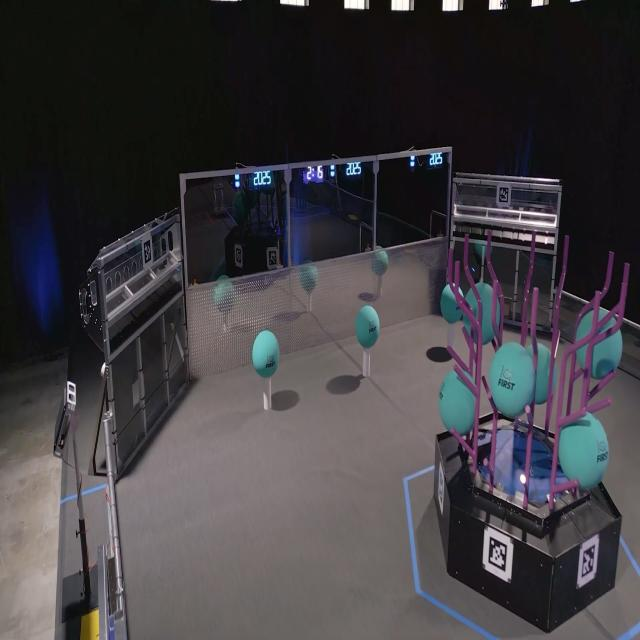Algae: (558, 410, 609, 490), (490, 342, 536, 419), (576, 308, 622, 379), (439, 369, 477, 436), (464, 281, 500, 345), (523, 342, 557, 406), (253, 330, 279, 378), (356, 306, 380, 348), (441, 283, 464, 323)
Coral: (263, 378, 272, 410), (363, 348, 370, 377), (448, 323, 454, 352)
